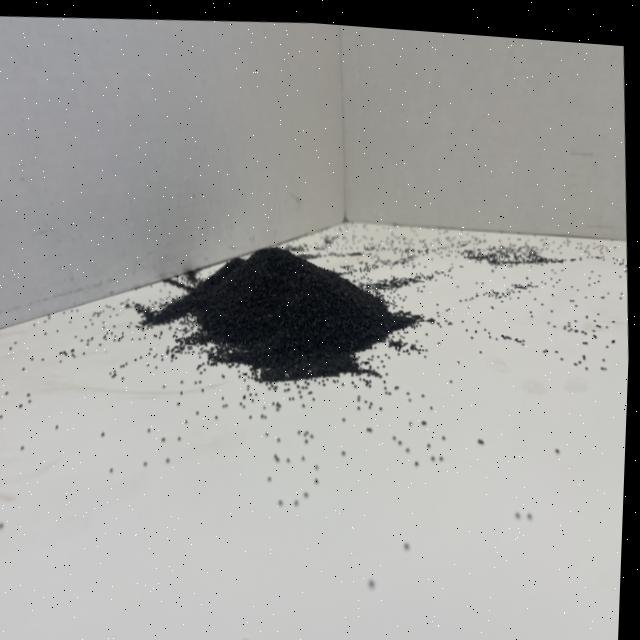Poppy Seeds: (139, 210, 424, 416)
